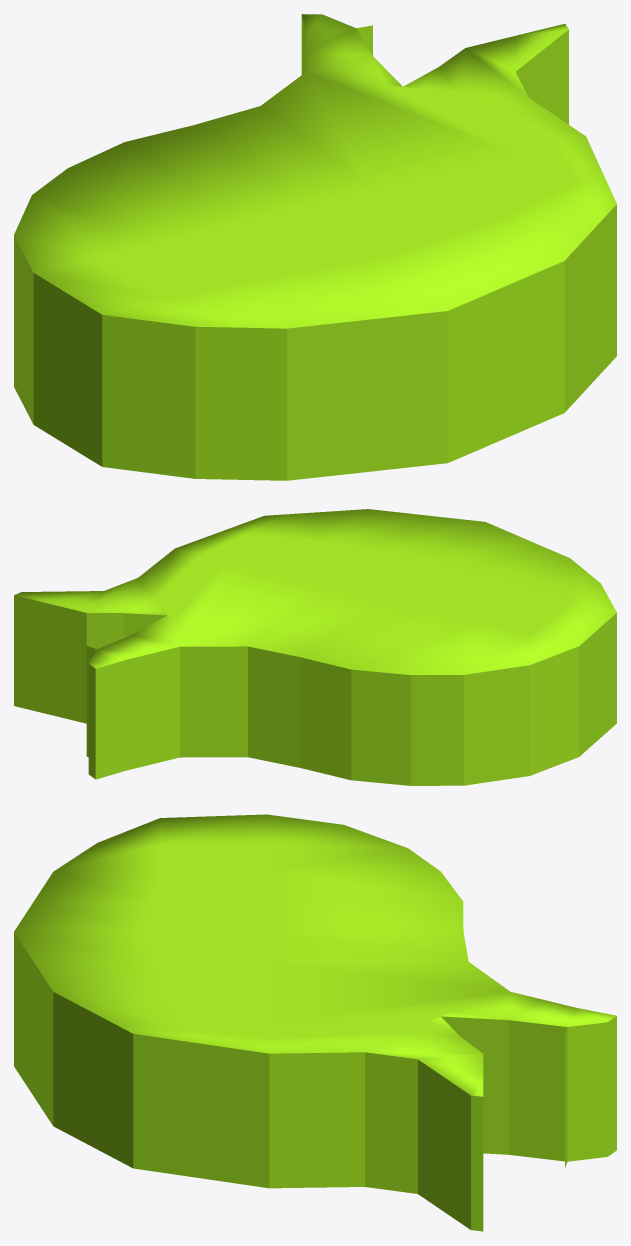
The model's file is gallBladder.glb.
3 renders of one model, top to bottom at view 1: azimuth 30°, elevation 25°; view 2: azimuth 150°, elevation 25°; view 3: azimuth 270°, elevation 25°, orthographic. The views are drawn at different scales.
Parts seen in each view (by area): view 1: gallBladder; view 2: gallBladder; view 3: gallBladder.
Part boxes in pixels (x1,y1,x2,y2): gallBladder: (14, 14, 616, 480); gallBladder: (14, 509, 616, 785); gallBladder: (14, 814, 616, 1231).
Size of the model in its own units: 4.92 by 1.09 by 4.44.
